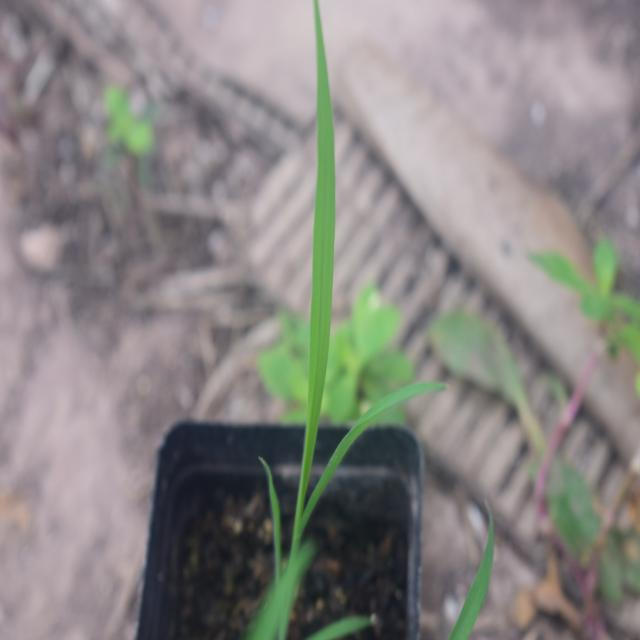crabgrass: (249, 34, 398, 527)
